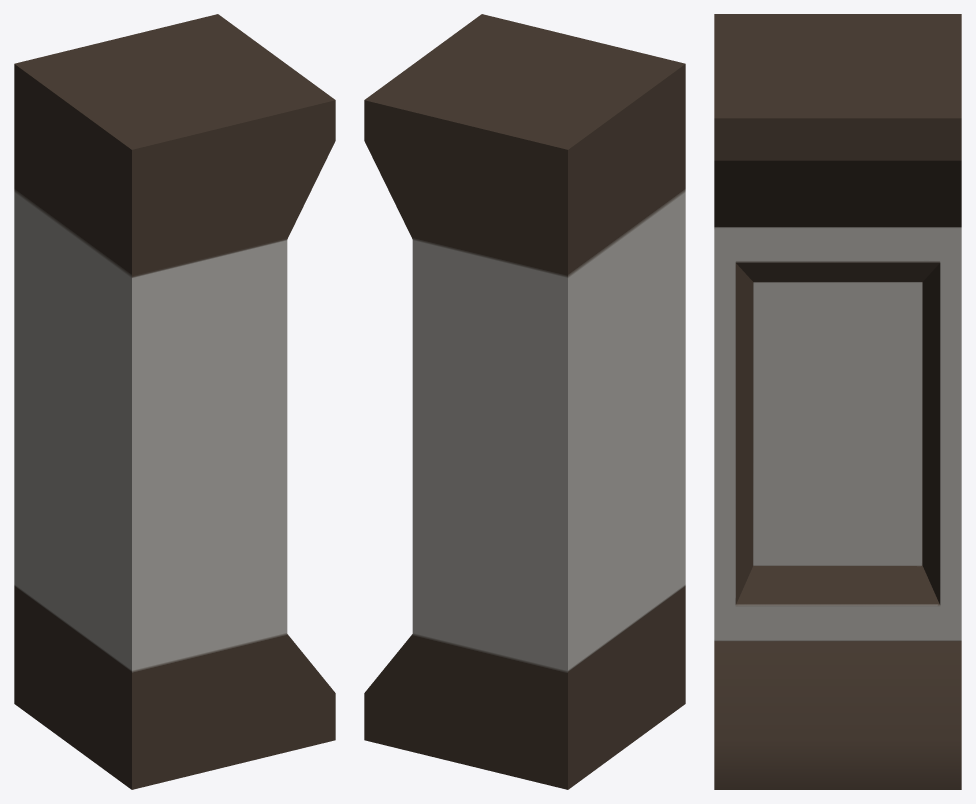
The model's file is Bevel_Wall.fbx.
3 renders of one model, left to right at view 1: azimuth 30°, elevation 25°; view 2: azimuth 150°, elevation 25°; view 3: azimuth 270°, elevation 25°, orthographic. The views are drawn at different scales.
Visible parts, largest first — view 1: Wall_Ver_BEVEL:pCube1; view 2: Wall_Ver_BEVEL:pCube1; view 3: Wall_Ver_BEVEL:pCube1.
Part boxes in pixels (x1,y1,x2,y2): Wall_Ver_BEVEL:pCube1: (14,14,335,789); Wall_Ver_BEVEL:pCube1: (364,14,685,789); Wall_Ver_BEVEL:pCube1: (714,14,961,789).
Size of the model in its own units: 100 by 300 by 100.
1 material, 1 textured.
